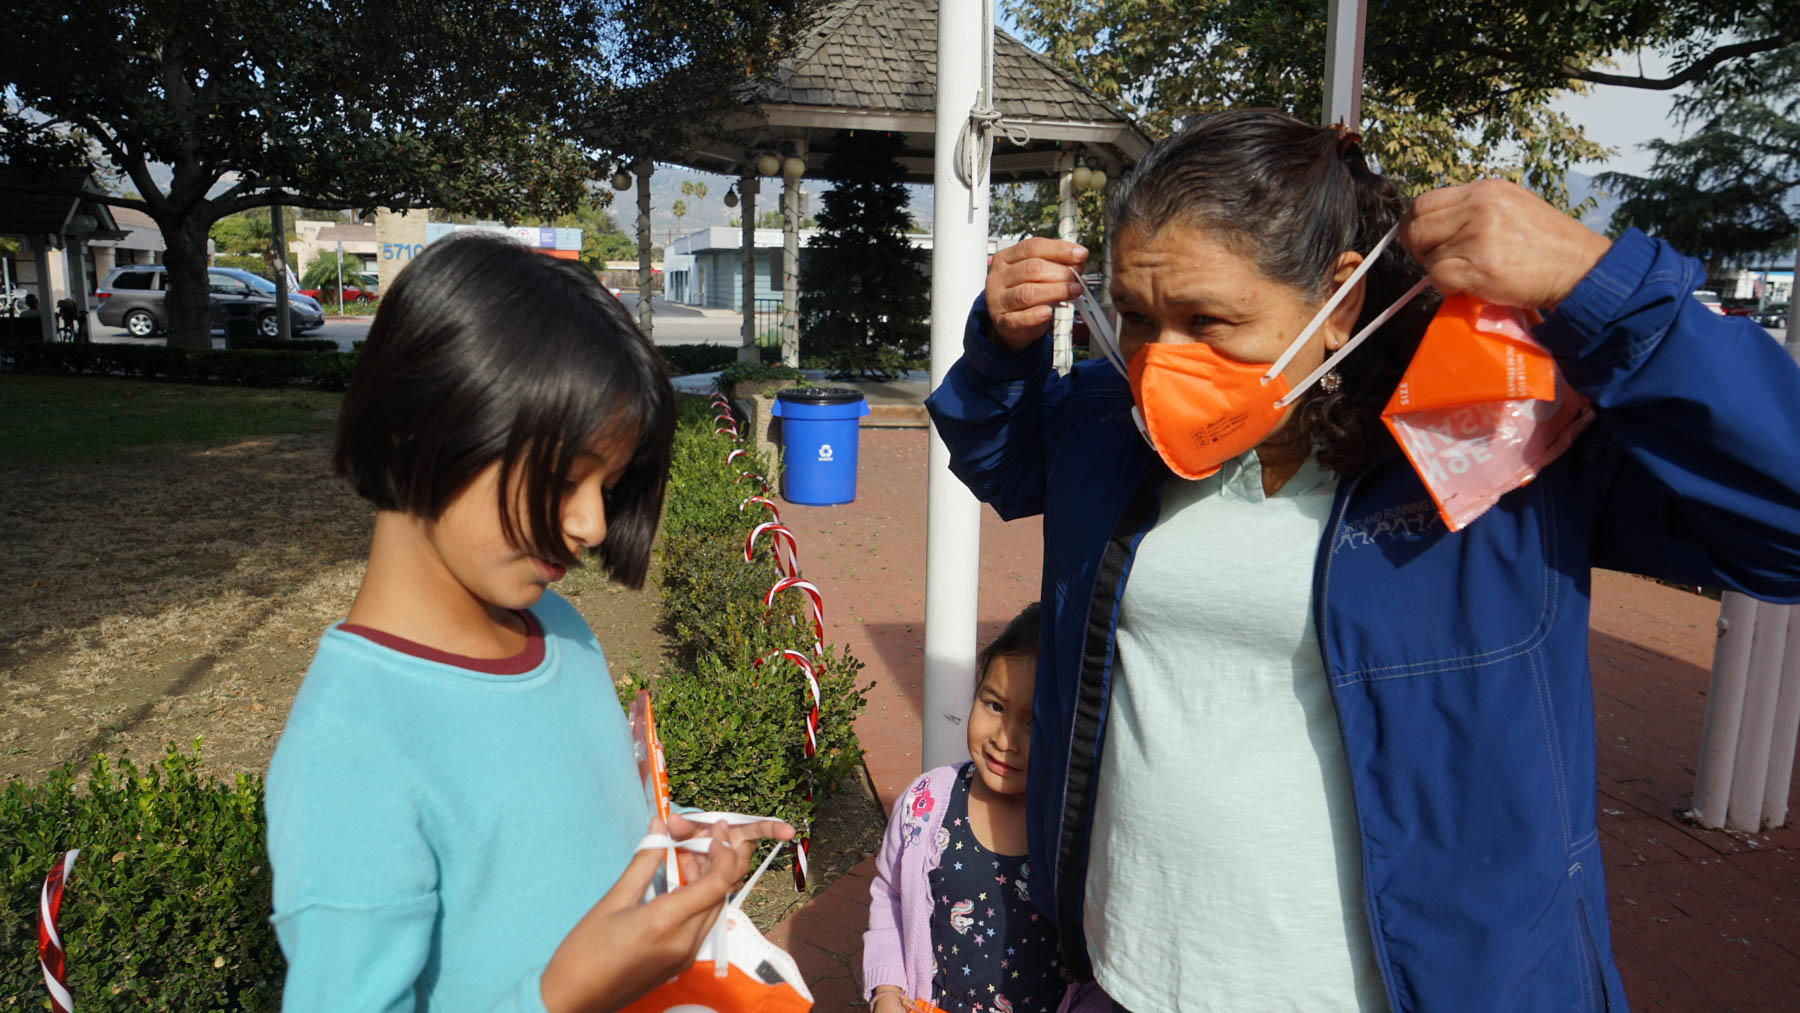bare: (470, 479, 617, 612), (962, 711, 1038, 793)
n95: (1094, 327, 1312, 478)
